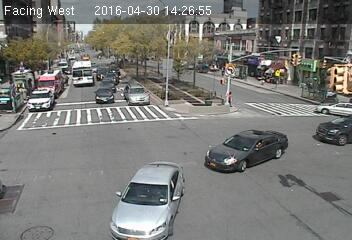neg: (210, 69, 226, 90), (97, 87, 112, 107), (154, 88, 168, 106), (269, 69, 281, 85)
pos: (224, 89, 238, 107), (23, 77, 35, 93)
